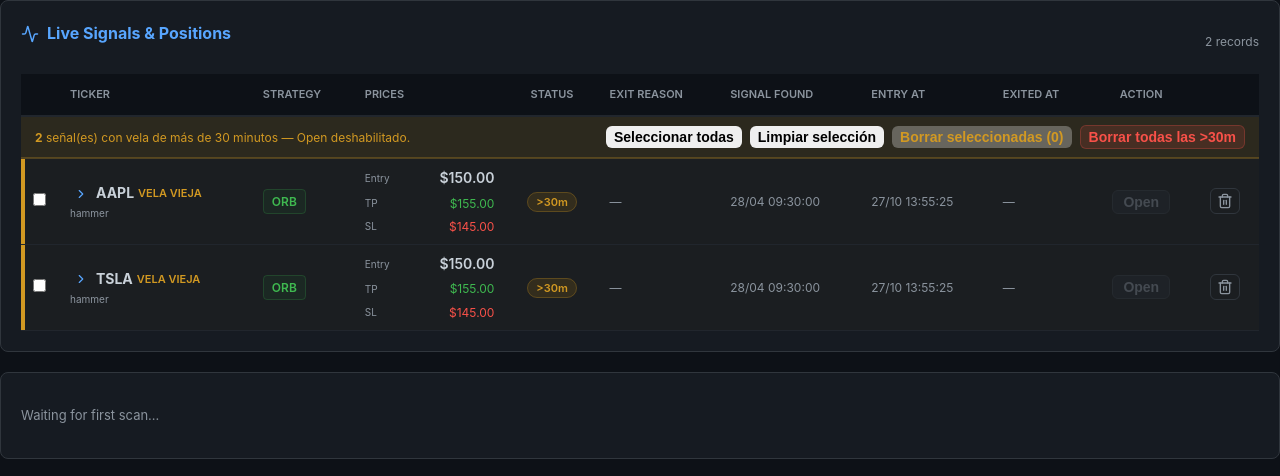
it: LiveTradeGrid — Batch delete de señales stale › "Seleccionar todas" marca todas las señales stale como checked
Click the button "Seleccionar todas" at (674, 137), box [606,126,742,148]
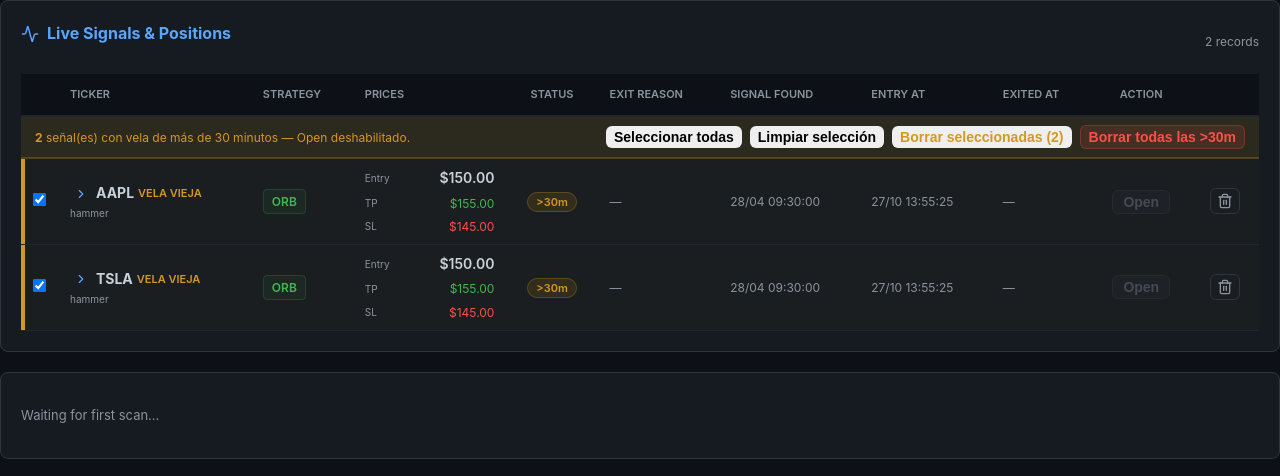
Expected: the checkbox named "Seleccionar AAPL" is checked, [33,193,46,206]
Expected: the checkbox named "Seleccionar TSLA" is checked, [33,279,46,292]
